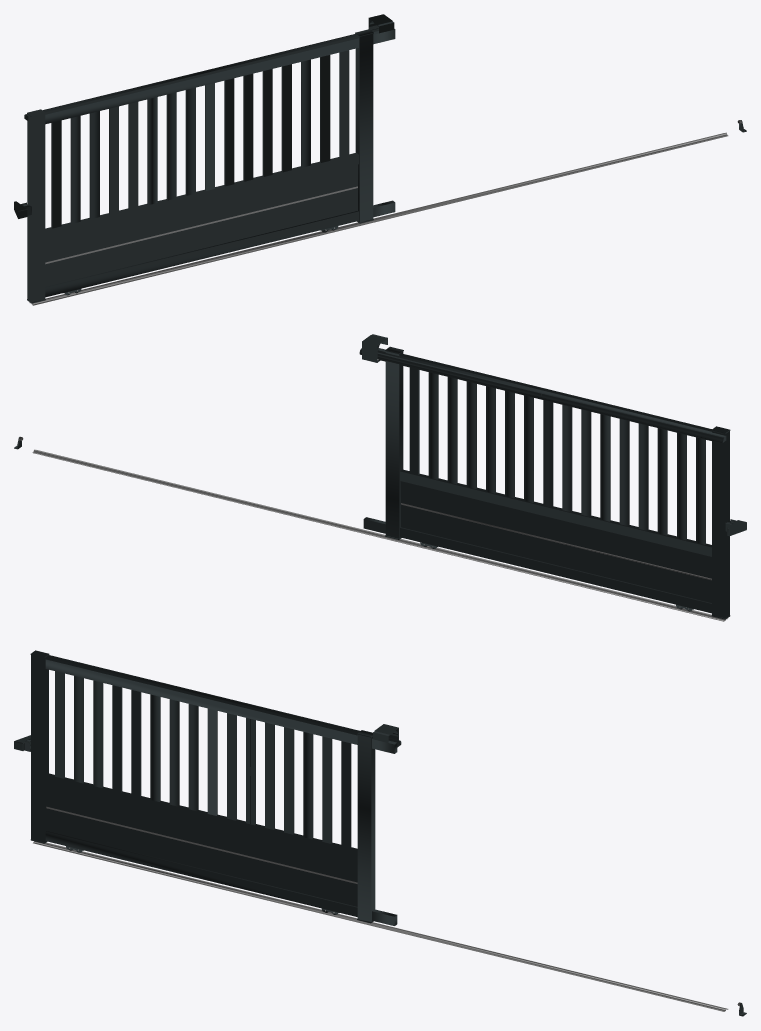
The picture shows the model from 3 angles, top to bottom: view 1: azimuth 30°, elevation 25°; view 2: azimuth 150°, elevation 25°; view 3: azimuth 330°, elevation 25°; orthographic projection.
Visible parts, largest first — view 1: Folha_1, cleveland; view 2: Folha_1, cleveland; view 3: Folha_1, cleveland.
Part boxes in pixels (<box>): Folha_1: <box>24,28,395,303</box>; cleveland: <box>14,14,746,305</box>; Folha_1: <box>359,346,733,619</box>; cleveland: <box>14,334,746,621</box>; Folha_1: <box>27,650,401,925</box>; cleveland: <box>14,724,746,1016</box>.
Size of the model in its own units: 641 by 166 by 16.91.
Materials: 1 (1 with a texture image).
